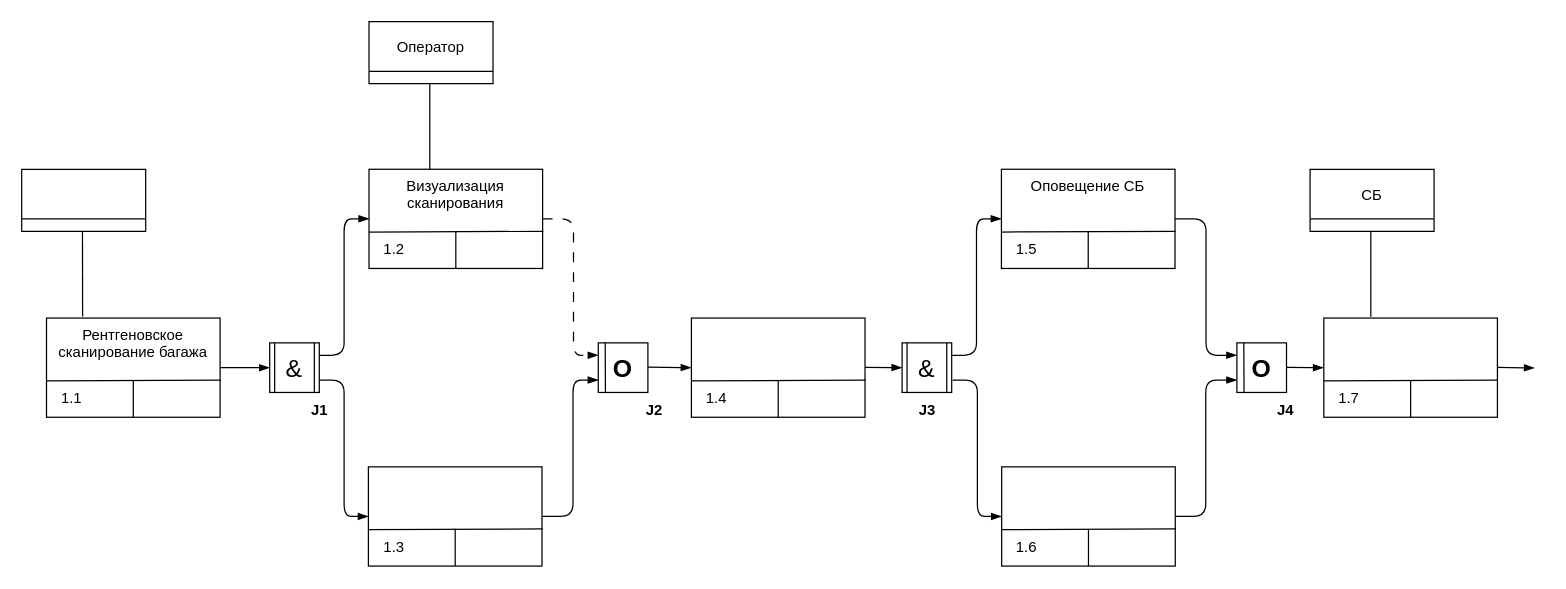
Some shapes in this 1566 by 589 pixel diagram are drawn without their labels. Each missing label, with the box of its shape:
Багаж: (20, 168, 146, 231)
Классификация выявленных объектов: (690, 317, 865, 417)
направление в соответствующий коридор: (1323, 317, 1497, 417)
Определение коридора: (1000, 466, 1175, 566)
Распознавание объектов NN: (367, 466, 542, 566)
